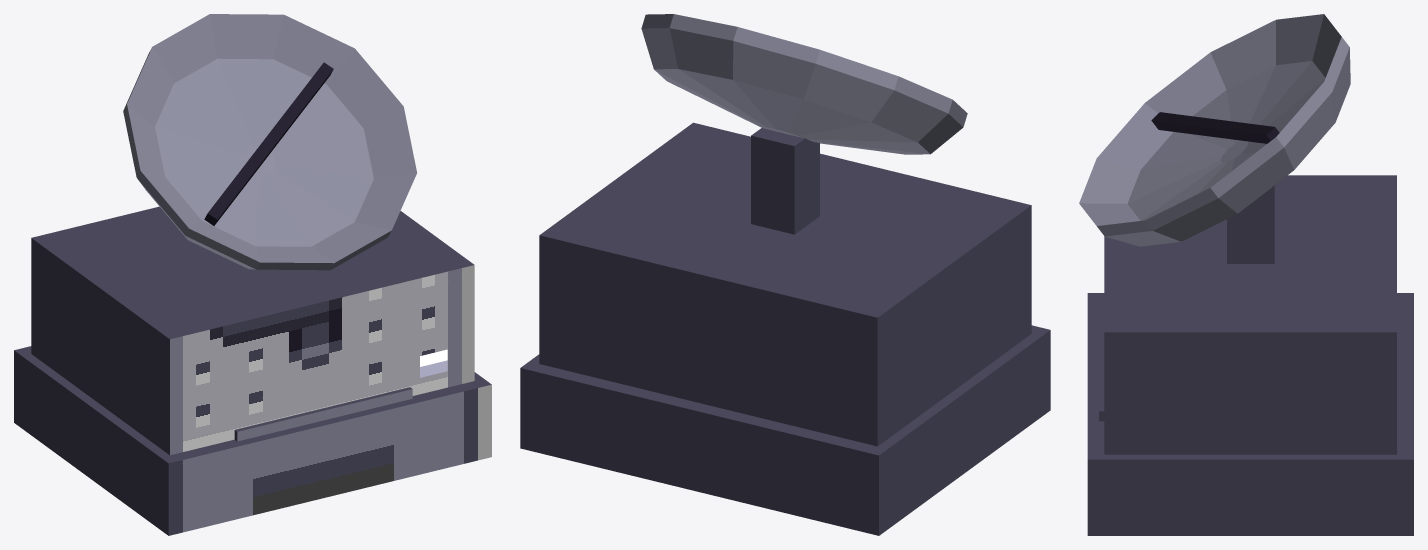
File: exploration_scanner.glb
The picture shows the model from 3 angles, left to right: view 1: azimuth 30°, elevation 25°; view 2: azimuth 150°, elevation 25°; view 3: azimuth 270°, elevation 25°; orthographic projection. The views are drawn at different scales.
Visible parts, largest first — view 1: Scanner_Pedestal, Dish, Service_Hatch, Status_Lamp; view 2: Scanner_Pedestal, Dish; view 3: Scanner_Pedestal, Dish, Service_Hatch.
Boxes of the visible parts, box(x1,y1,x2,y2) form: Scanner_Pedestal: box(14, 206, 491, 535); Dish: box(123, 14, 416, 270); Service_Hatch: box(234, 387, 412, 441); Status_Lamp: box(420, 349, 447, 377); Scanner_Pedestal: box(520, 122, 1050, 535); Dish: box(641, 14, 967, 154); Scanner_Pedestal: box(1087, 175, 1413, 535); Dish: box(1079, 14, 1350, 246); Service_Hatch: box(1099, 321, 1104, 421).
Bounding box in the file's own units: 1.4 × 1.63 × 1.19.
Materials: 2 (2 with a texture image).
